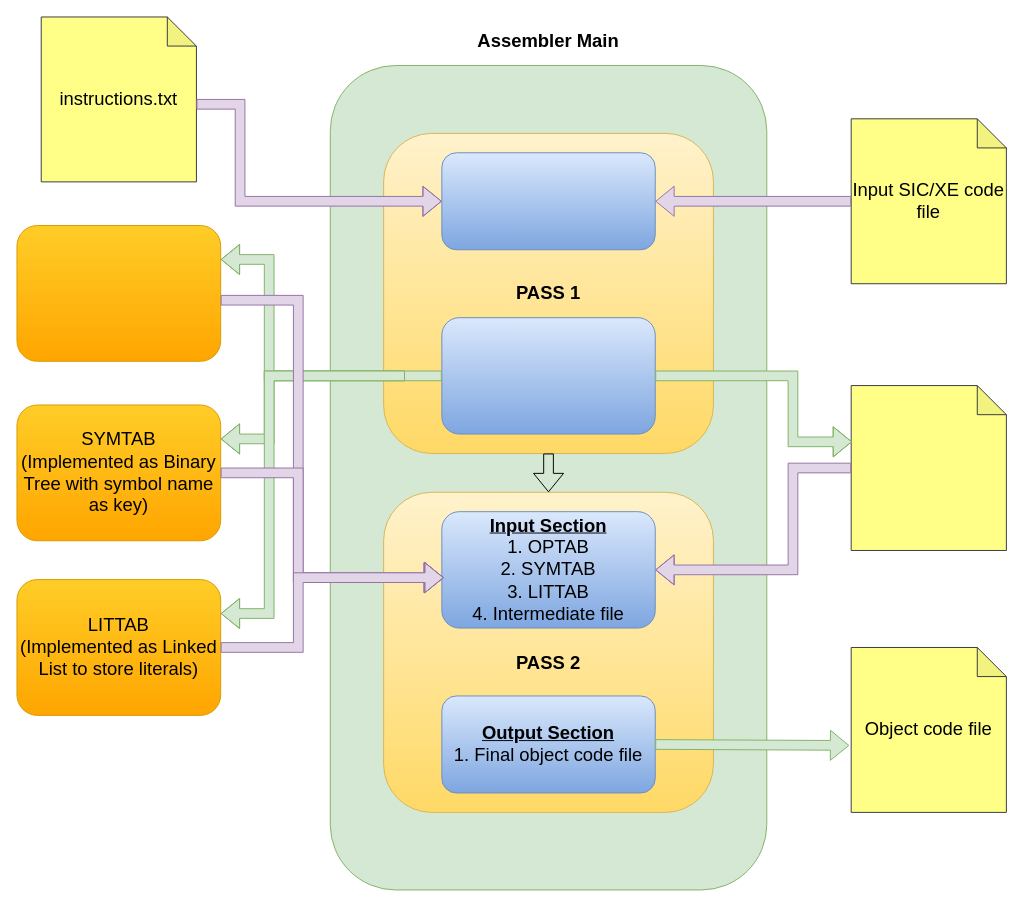
The diagram is 1023 pixels wide and 907 high, and some of its shapes have lost their labels. The shapes that lost their labels are listed below. From the top down, each one's centre as x and y in pixels, then its label:
At pixel 548 201: "Input Section 1. 'instructions.txt' 2. SIC/XE code file".
At pixel 118 293: "OPTAB (Implemented as Hash Table with Opcode as key)".
At pixel 548 375: "Output Section 1. OPTAB 2. SYMTAB 3. LITTAB 4. Intermediate file".
At pixel 928 467: "Intermediate file".
